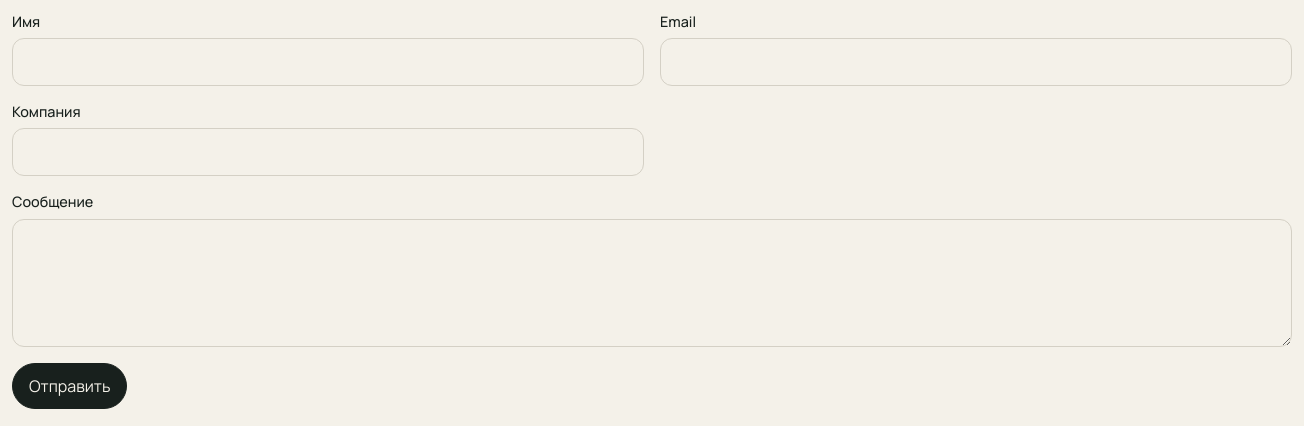
Форма обращения › блокирует повторную отправку во время pending
The image size is (1304, 426).
Type "Michael Ershov" into the field labelled "Имя".
click(328, 62); type("Michael Ershov")  # box [12, 38, 644, 86]
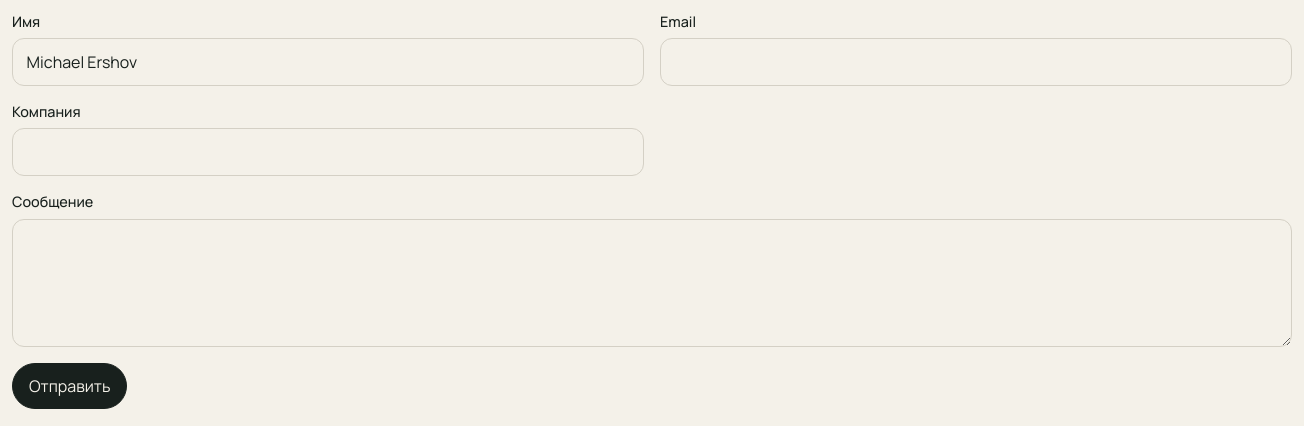
Type "michael@example.com" into the field labelled "Email".
click(976, 62); type("michael@example.com")  # box [660, 38, 1292, 86]
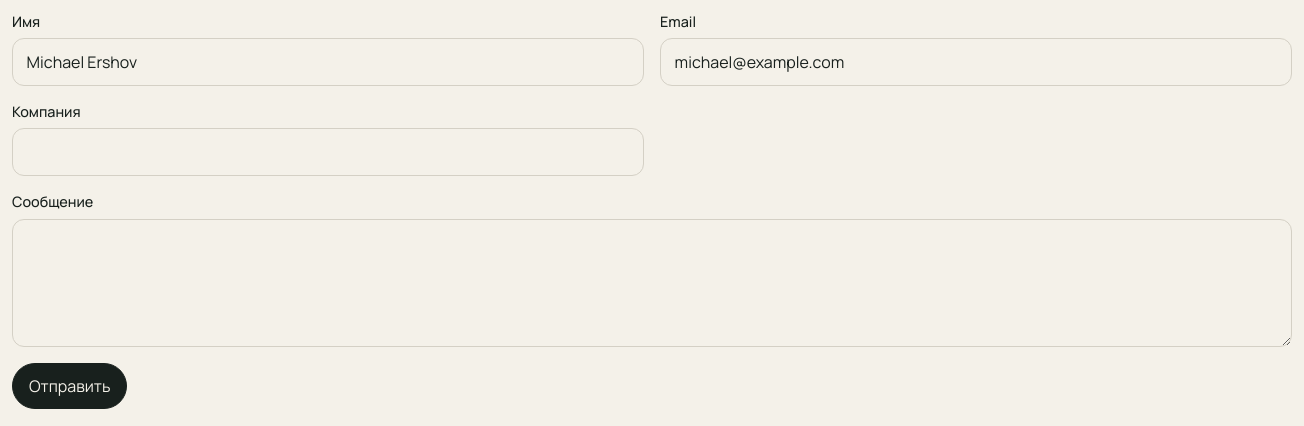
Type "Example" into the field labelled "Компания".
click(328, 152); type("Example")  # box [12, 128, 644, 176]
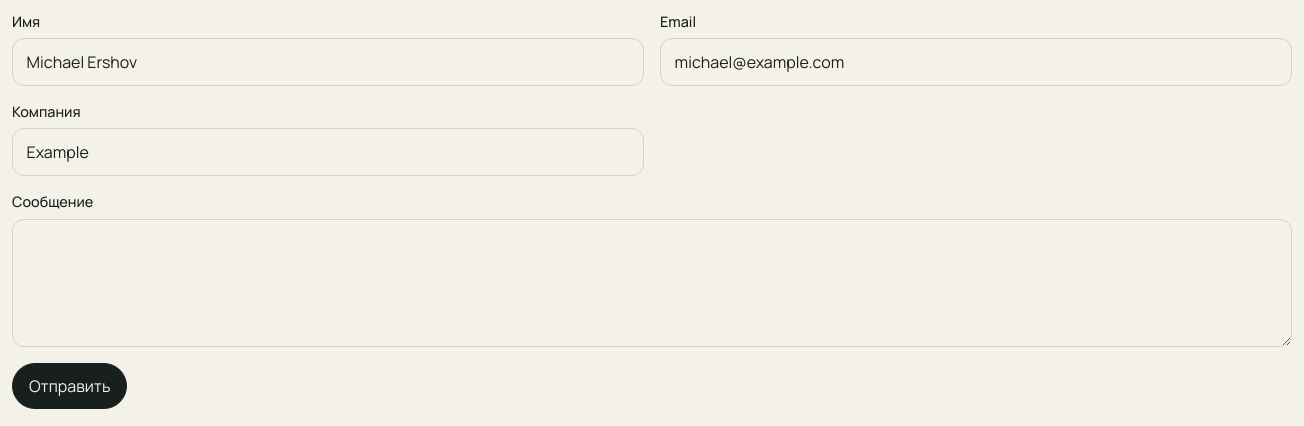
Type "Предлагаю обсудить сотрудничество." into the text box labelled "Сообщение".
click(652, 283); type("Предлагаю обсудить сотрудничество.")  # box [12, 219, 1292, 347]
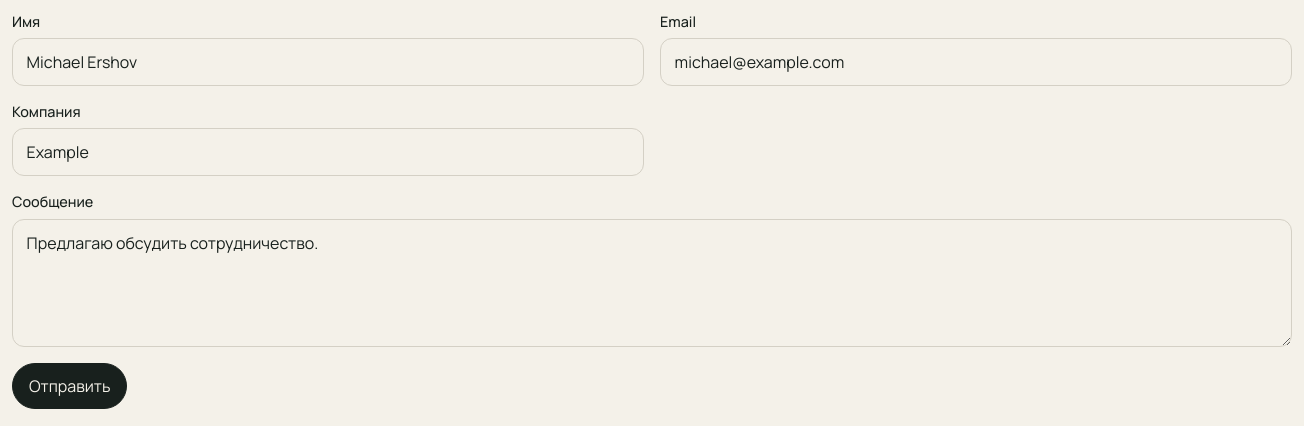
Submit the form "Отправить"
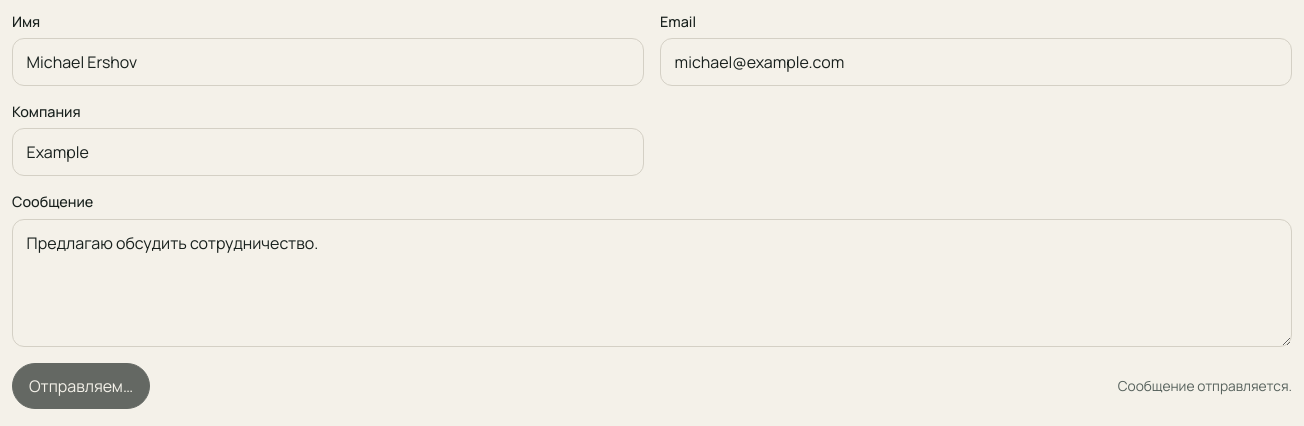
Expected: the button "Отправляем…" is disabled, [12, 363, 150, 409]
Expected: the text "Сообщение отправляется." is shown, [1118, 376, 1292, 395]
